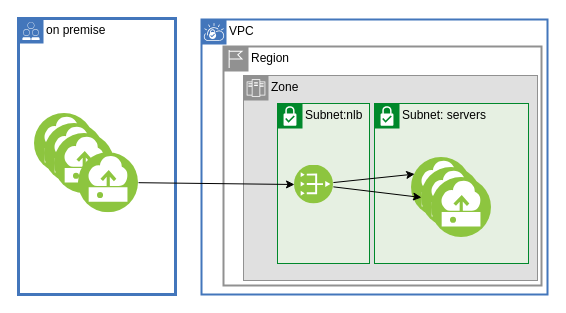
Image size: 566x313. Some labels were removed from this diagram. The shapes that lost their labels are listed below. From the top down, each one's centre as x and y in pixels, then its label:
the point at 108,182: Client
the point at 313,184: NLB
the point at 461,207: Servers
